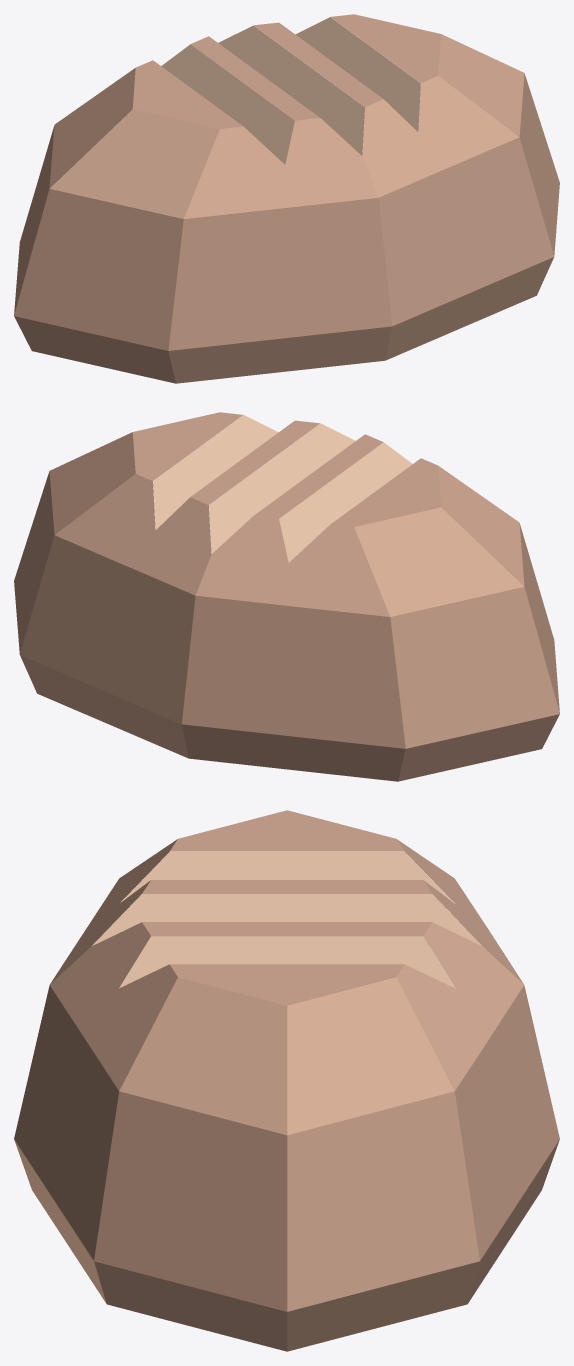
3 views of the same model, one above another, from view 1: azimuth 30°, elevation 25°; view 2: azimuth 150°, elevation 25°; view 3: azimuth 270°, elevation 25° (orthographic). The views are drawn at different scales.
Parts seen in each view (by area): view 1: loafRound; view 2: loafRound; view 3: loafRound.
Boxes of the visible parts, bbox=[...] form: loafRound: bbox=[14, 14, 559, 383]; loafRound: bbox=[14, 412, 559, 781]; loafRound: bbox=[14, 810, 559, 1351].
Bounding box in the file's own units: 0.7717 × 0.2933 × 0.5146.
